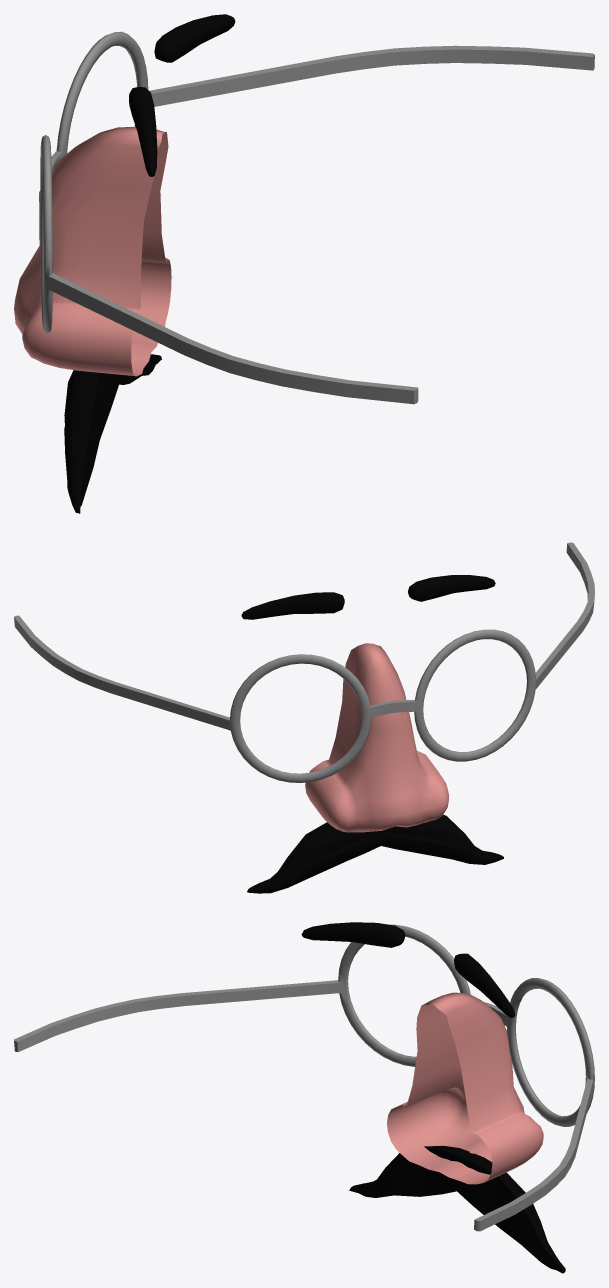
The model's file is saka-gozlugu.fbx.
3 renders of one model, top to bottom at view 1: azimuth 30°, elevation 25°; view 2: azimuth 150°, elevation 25°; view 3: azimuth 270°, elevation 25°, orthographic. The views are drawn at different scales.
Visible parts, largest first — view 1: burun, gzlk, biyik_, kas; view 2: burun, gzlk, biyik_, kas; view 3: burun, gzlk, biyik_, kas.
Part boxes in pixels (x1,y1,x2,y2): burun: (14, 127, 171, 376); gzlk: (40, 31, 594, 404); biyik_: (64, 354, 161, 513); kas: (129, 14, 235, 176); burun: (305, 643, 448, 832); gzlk: (14, 542, 594, 782); biyik_: (247, 815, 503, 893); kas: (241, 575, 495, 619); burun: (387, 992, 543, 1184); gzlk: (14, 924, 594, 1231); biyik_: (349, 1145, 565, 1273); kas: (301, 922, 515, 1017).
Size of the model in its own units: 78.2 by 45.2 by 79.48.
